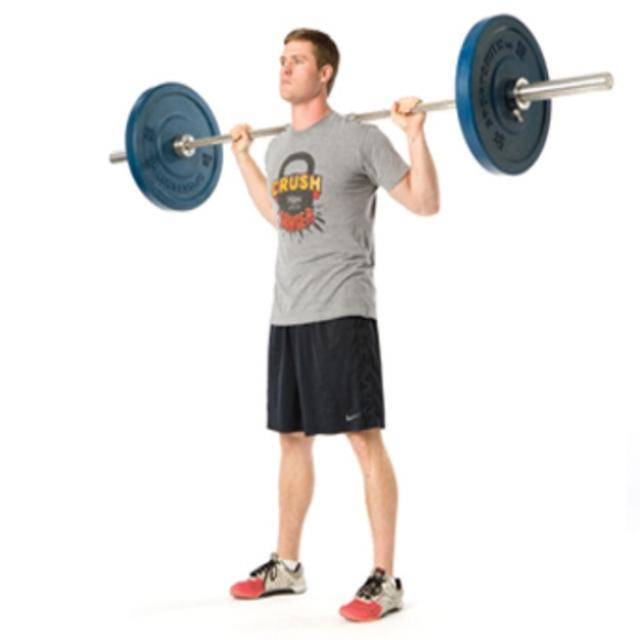squat: (104, 9, 625, 626)
